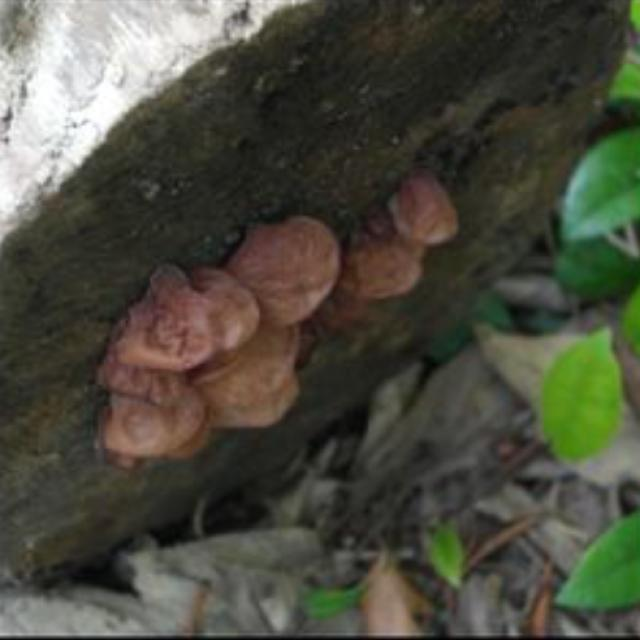Fase Muda: (97, 211, 341, 467), (336, 171, 473, 315)
